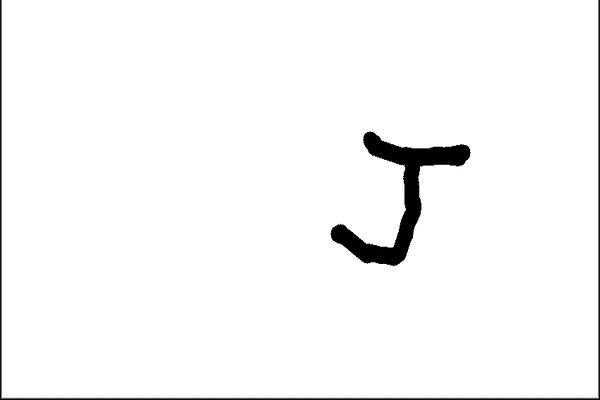J: (323, 120, 476, 271)
